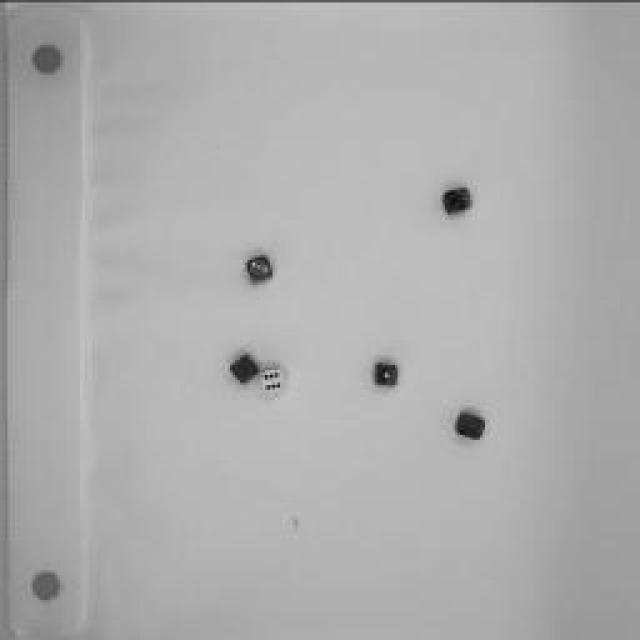dice_1: (370, 356, 405, 392)
dice_3: (243, 254, 275, 284)
dice_5: (443, 183, 475, 215)
dice_6: (455, 405, 490, 447), (224, 349, 261, 386), (254, 360, 288, 400)
